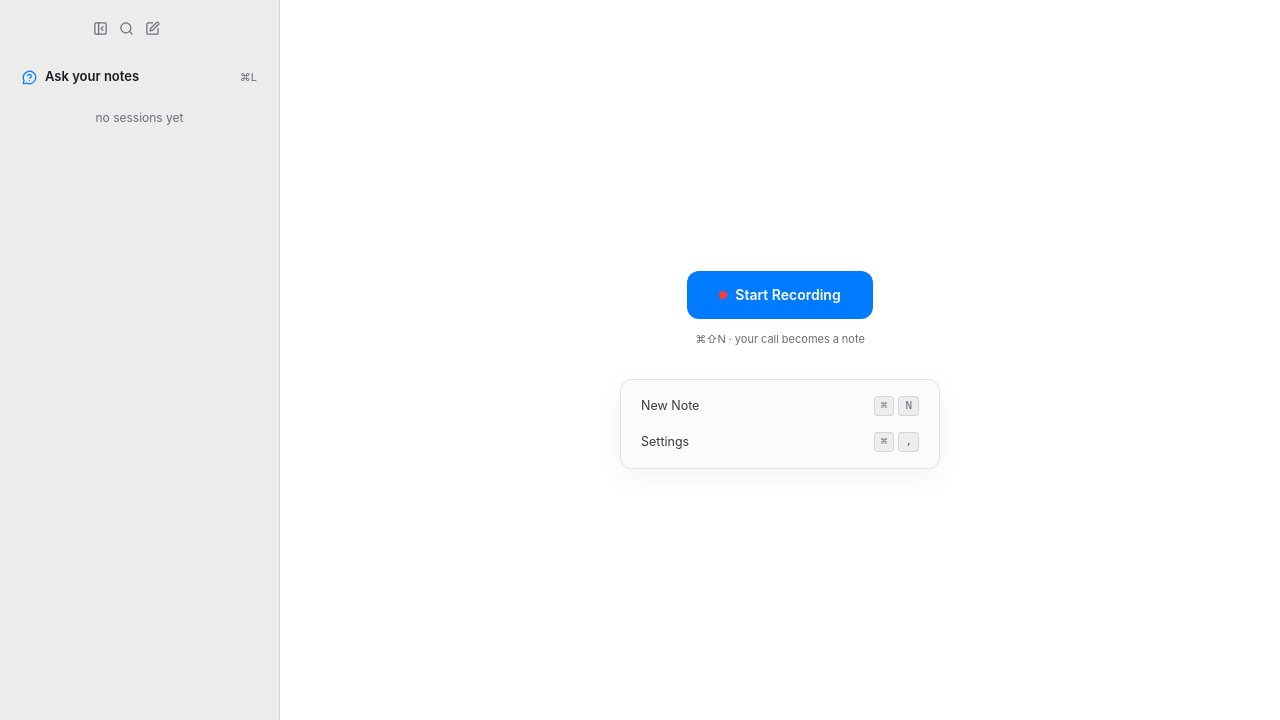
Test: App: call detection via the banner window › surfaces the main window instead of starting while recording
The width and height of the screenshot is (1280, 720).
Click the button "Start Recording". click: (780, 295)
box: x1=687 y1=271 x2=873 y2=319
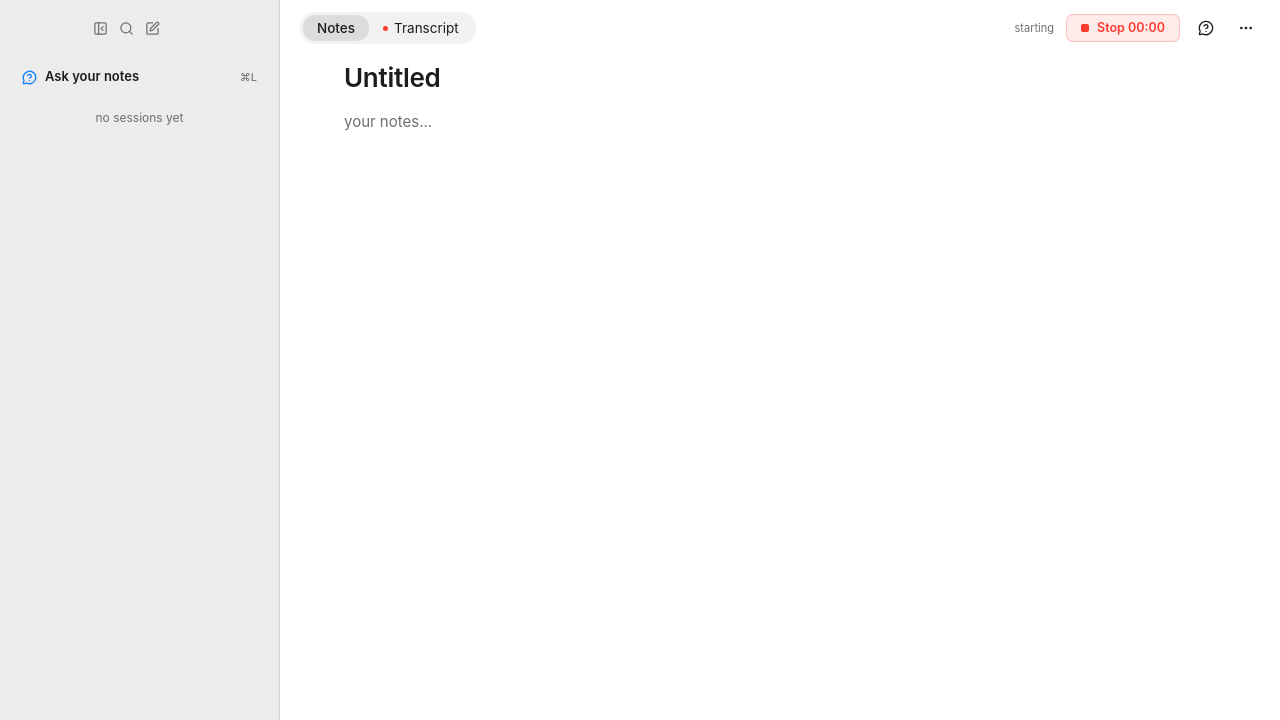
Result: the button "Stop 00:00" is shown at x1=1066 y1=14 x2=1180 y2=42
